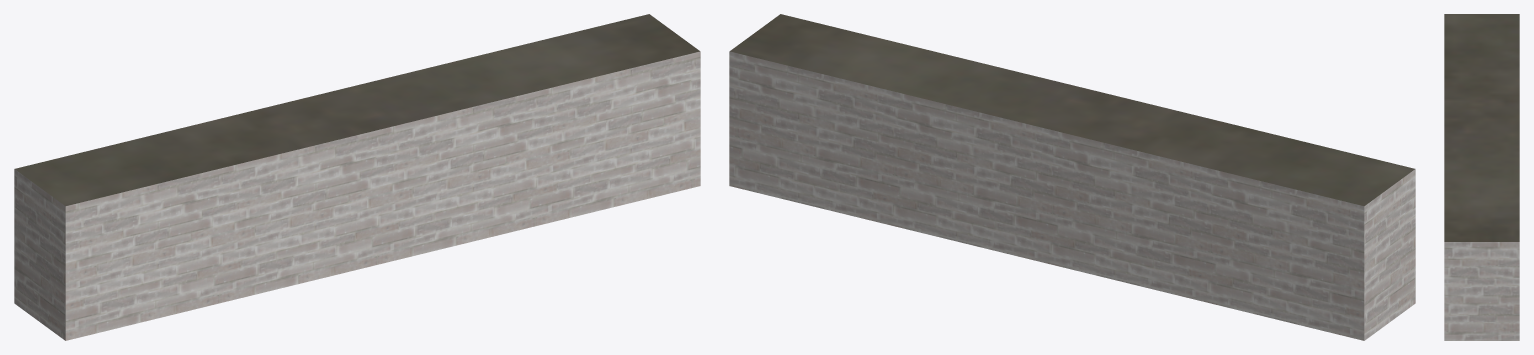
Rendered from WumpusHallWay.fbx.
The picture shows the model from 3 angles, left to right: view 1: azimuth 30°, elevation 25°; view 2: azimuth 150°, elevation 25°; view 3: azimuth 270°, elevation 25°; orthographic projection. The views are drawn at different scales.
Parts seen in each view (by area): view 1: Hallway; view 2: Hallway; view 3: Hallway.
Boxes of the visible parts, left/top/right/bottom form: Hallway: left=14, top=14, right=700, bottom=340; Hallway: left=729, top=14, right=1415, bottom=340; Hallway: left=1444, top=14, right=1519, bottom=340.
Size of the model in its own units: 3941 by 799 by 550.
